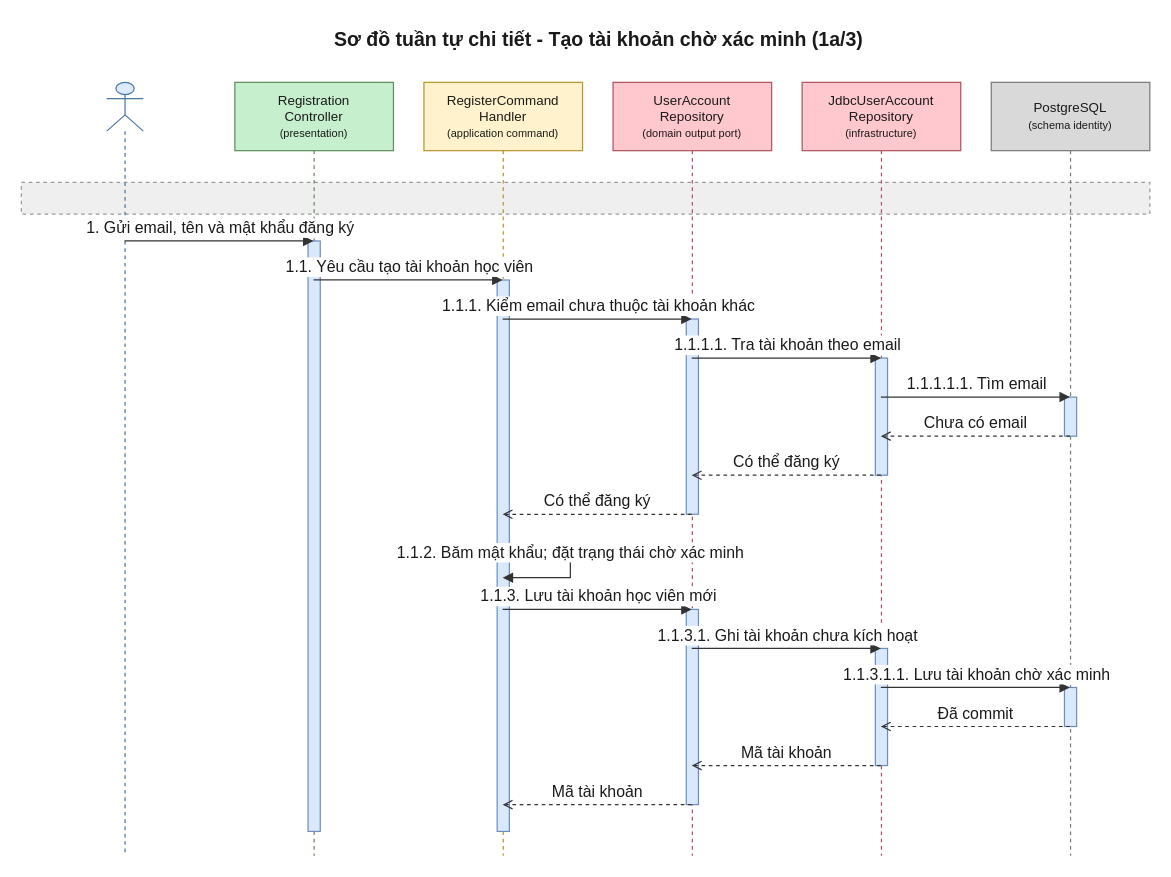
The diagram is 1171 pixels wide and 877 high, and some of its shapes have lost their labels. Here are the shapes that lost their labels. From the top down, the box of each, then its label:
(20, 181, 1150, 214): Giai đoạn 1a - Tạo tài khoản chưa xác minh email
(106, 81, 143, 856): Sinh viên
